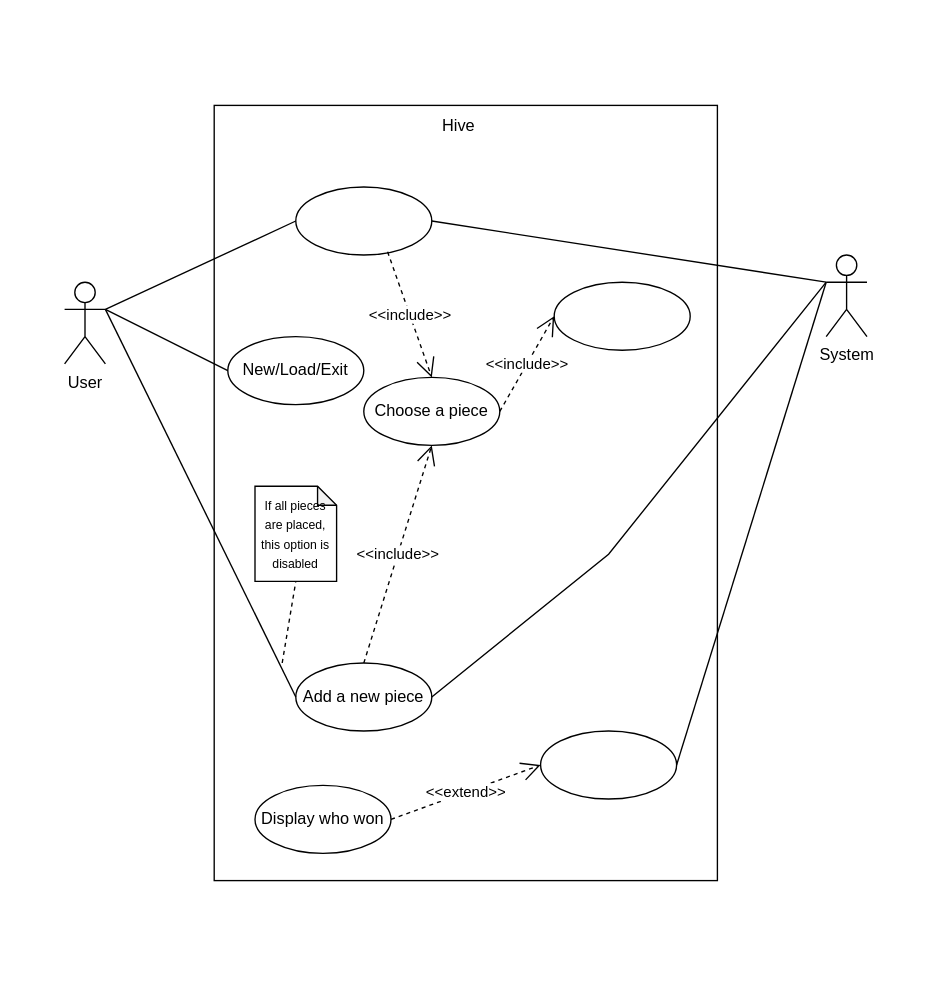
Some shapes in this 944 by 985 pixel diagram are drawn without their labels. Each missing label, with the box of its shape:
Display board: (539, 730, 677, 799)
Move a piece: (294, 186, 432, 255)
Show/Display legal moves: (553, 281, 690, 350)
